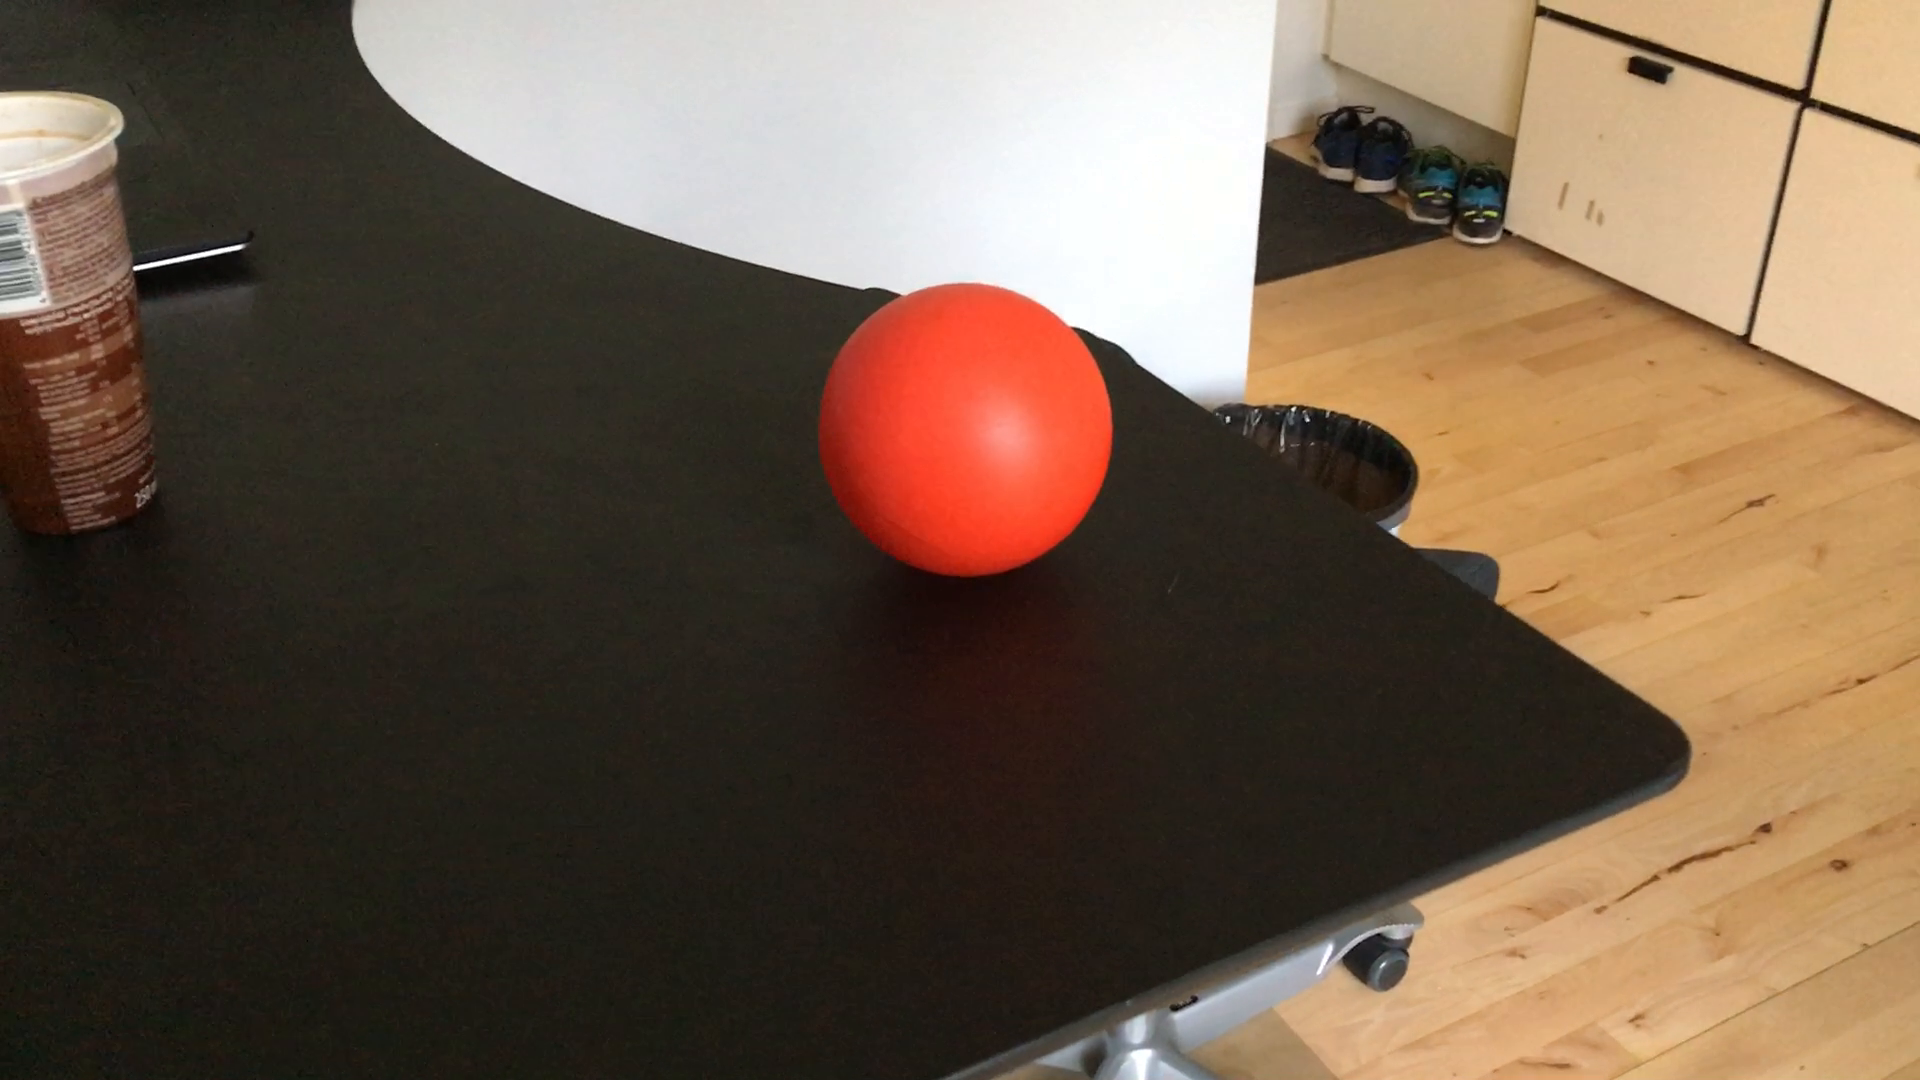Ball: (815, 274, 1118, 580)
